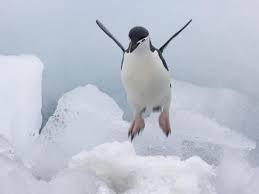chinstrap: (89, 9, 200, 140)
